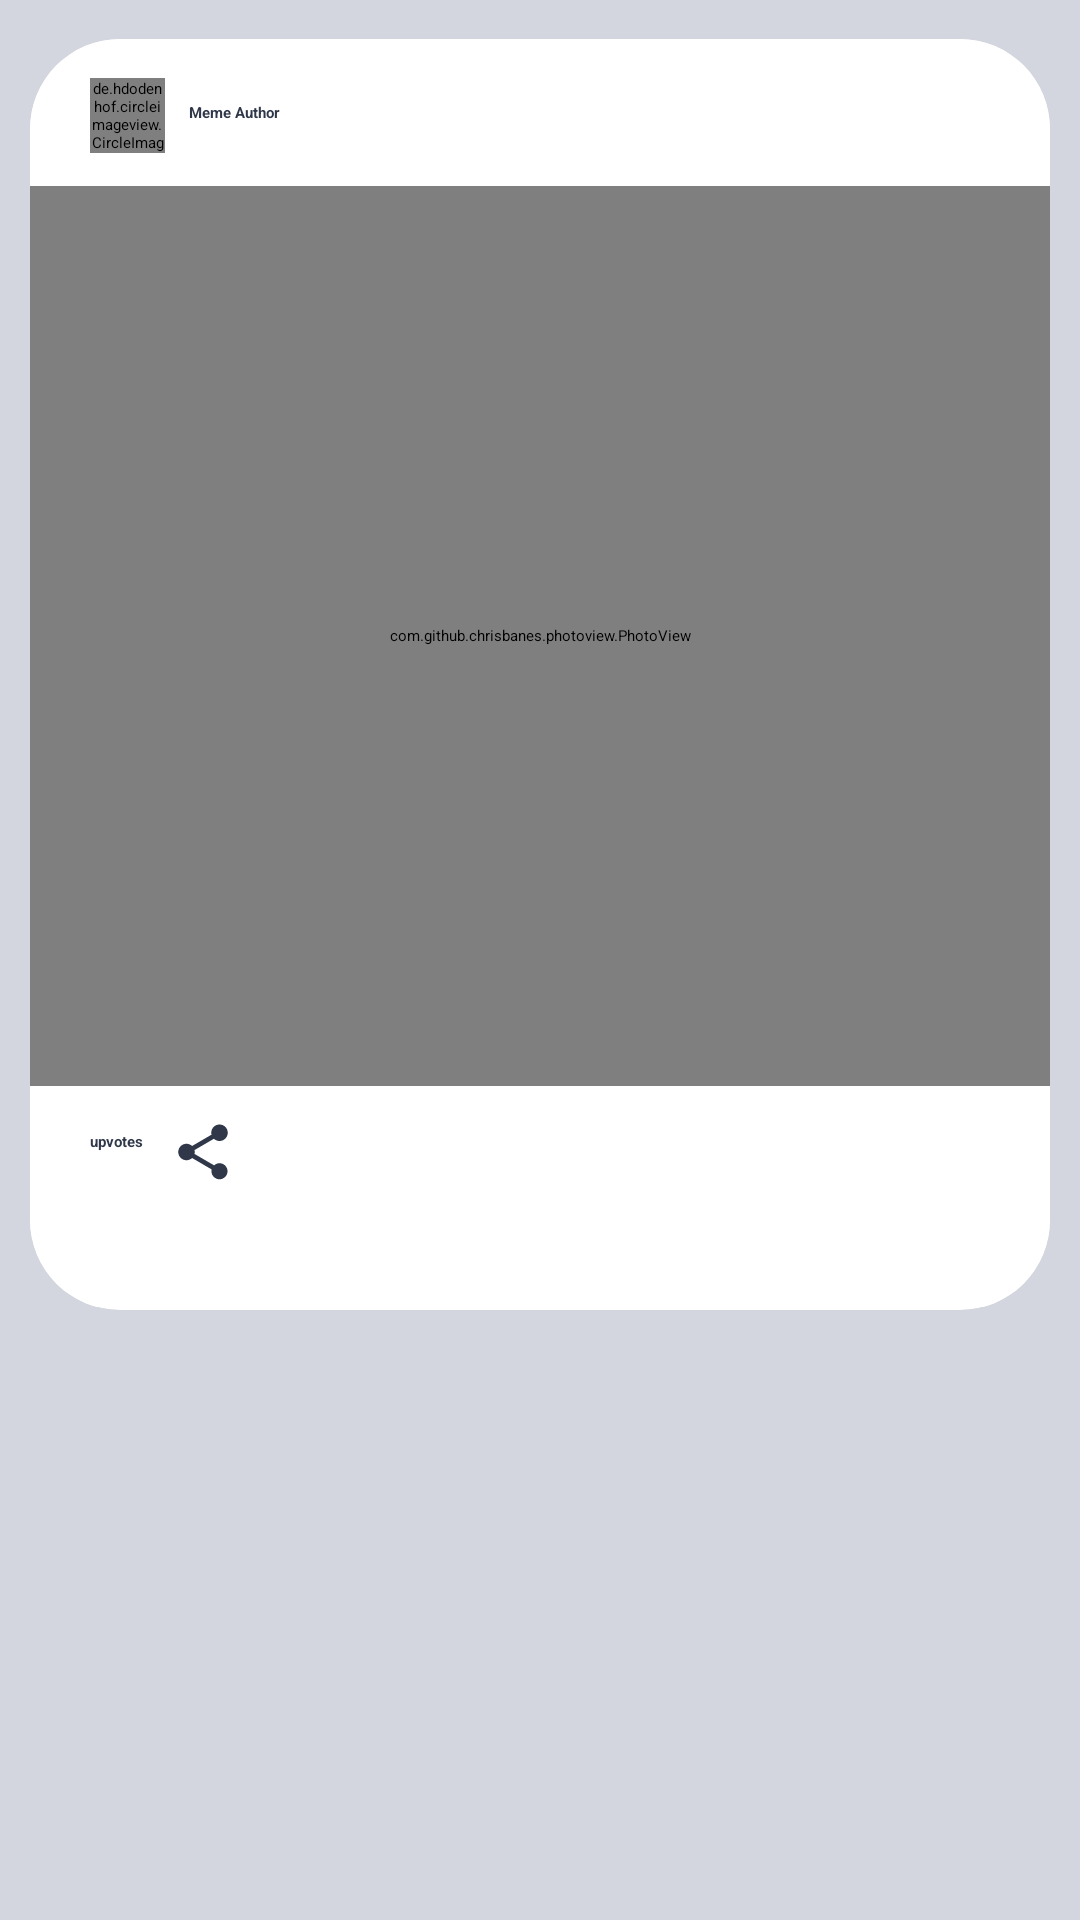

Icons on this 1080 × 1920 Android screen, each with its box as (x1, y1, x2, y2):
Share Image: (178, 1124, 228, 1180)
